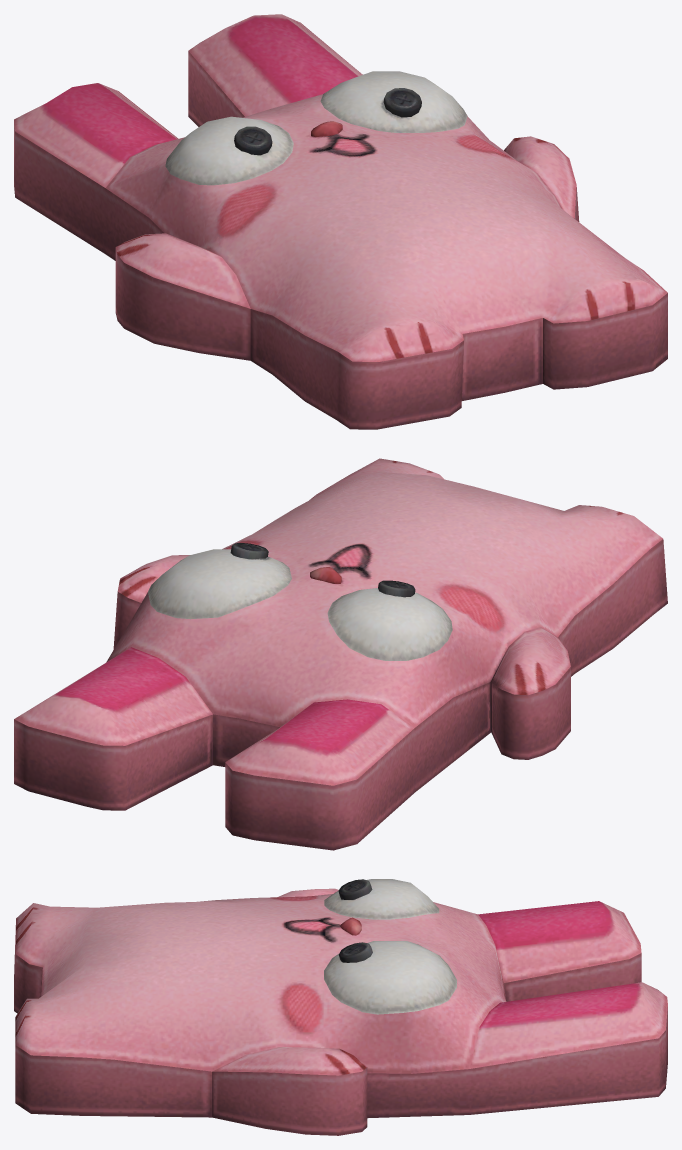
File: PelucheConejo_textura.fbx
3 renders of one model, top to bottom at view 1: azimuth 30°, elevation 25°; view 2: azimuth 150°, elevation 25°; view 3: azimuth 270°, elevation 25°, orthographic. The views are drawn at different scales.
Parts seen in each view (by area): view 1: s4studio_mesh_1; view 2: s4studio_mesh_1; view 3: s4studio_mesh_1.
Boxes of the visible parts, x1,y1,x2,y2 form: s4studio_mesh_1: (14,14,667,429); s4studio_mesh_1: (14,458,667,850); s4studio_mesh_1: (14,879,667,1135).
Bounding box in the file's own units: 31.47 × 10.21 × 45.61.
Materials: 1 (1 with a texture image).
